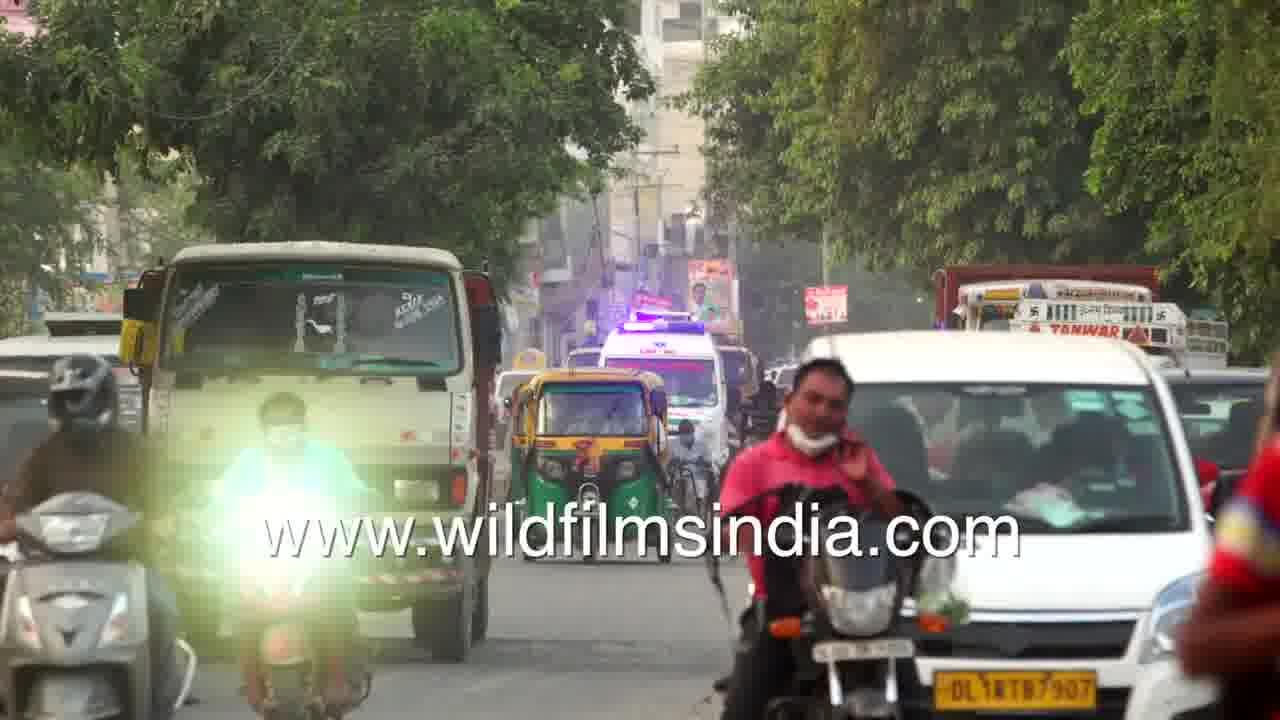AMBULANCE: (602, 295, 732, 369)
